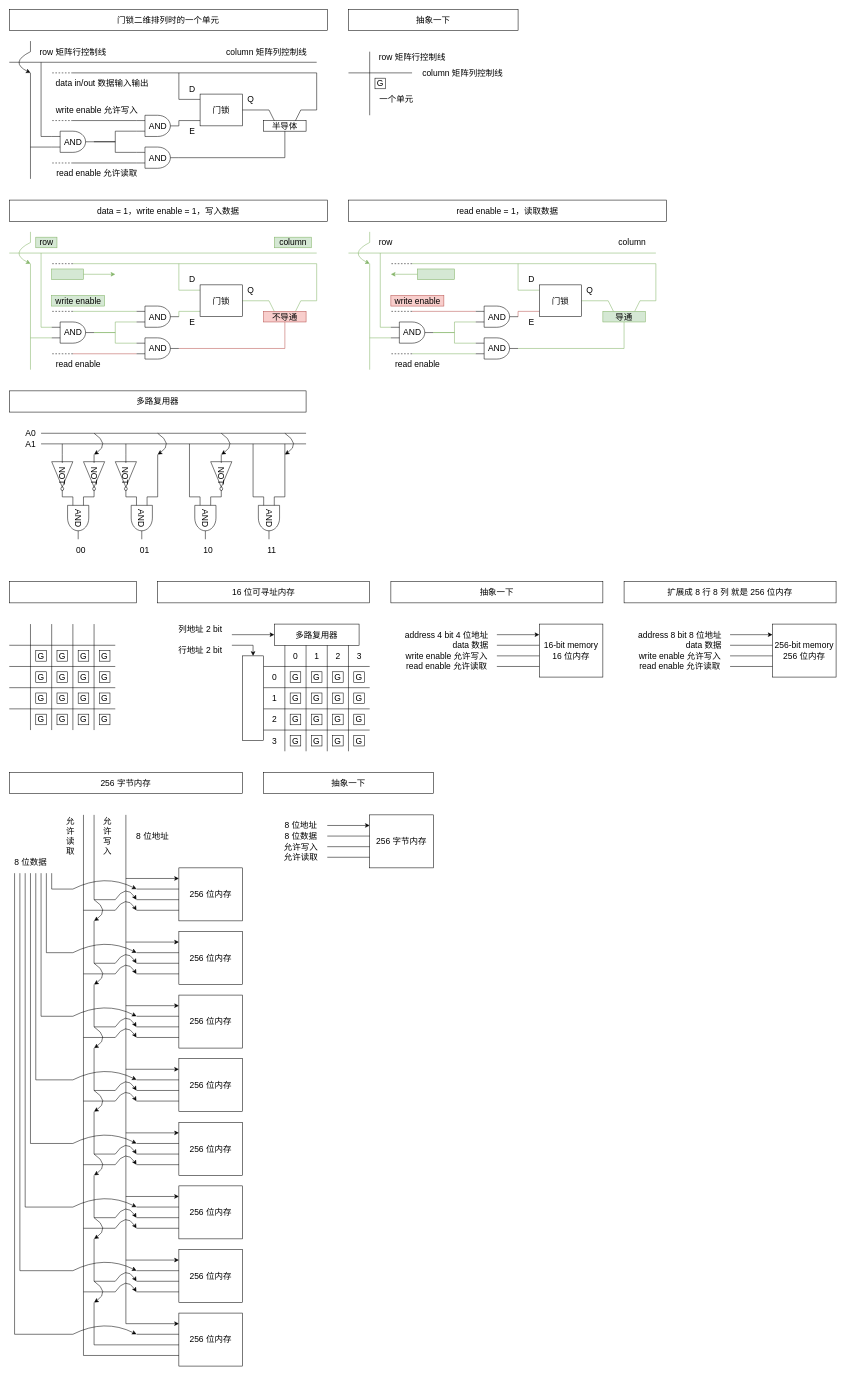
Image size: 845x1375. Some labels were removed from this diagram. Each missing label, with the centre of its shape:
4 行 4 列: point (72, 592)
data in: point (67, 274)
data out: point (435, 274)
多 路 复 用 器: point (253, 698)
